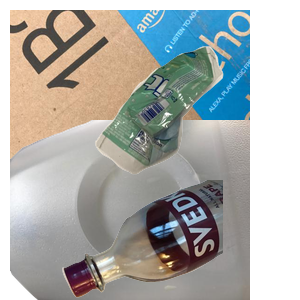cardboard: (10, 10, 250, 190)
glass: (60, 180, 300, 300)
plastic: (10, 120, 250, 300)
trash: (92, 44, 300, 211)
